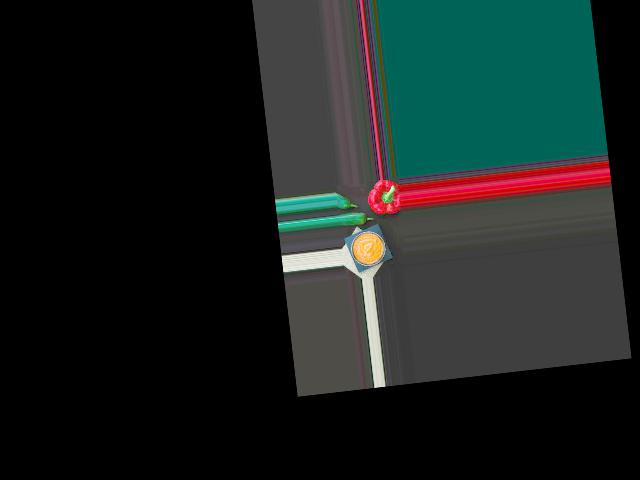bell_pepper: (366, 179, 401, 216)
